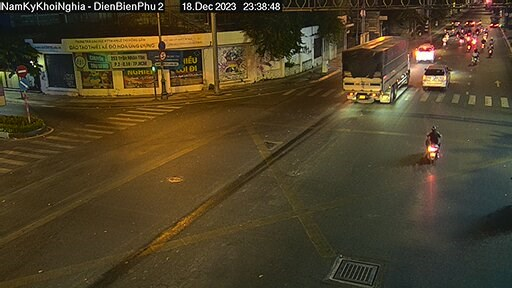car: (417, 59, 454, 90), (415, 36, 437, 68)
motorbike: (418, 120, 451, 171)
truck: (333, 33, 413, 108)
